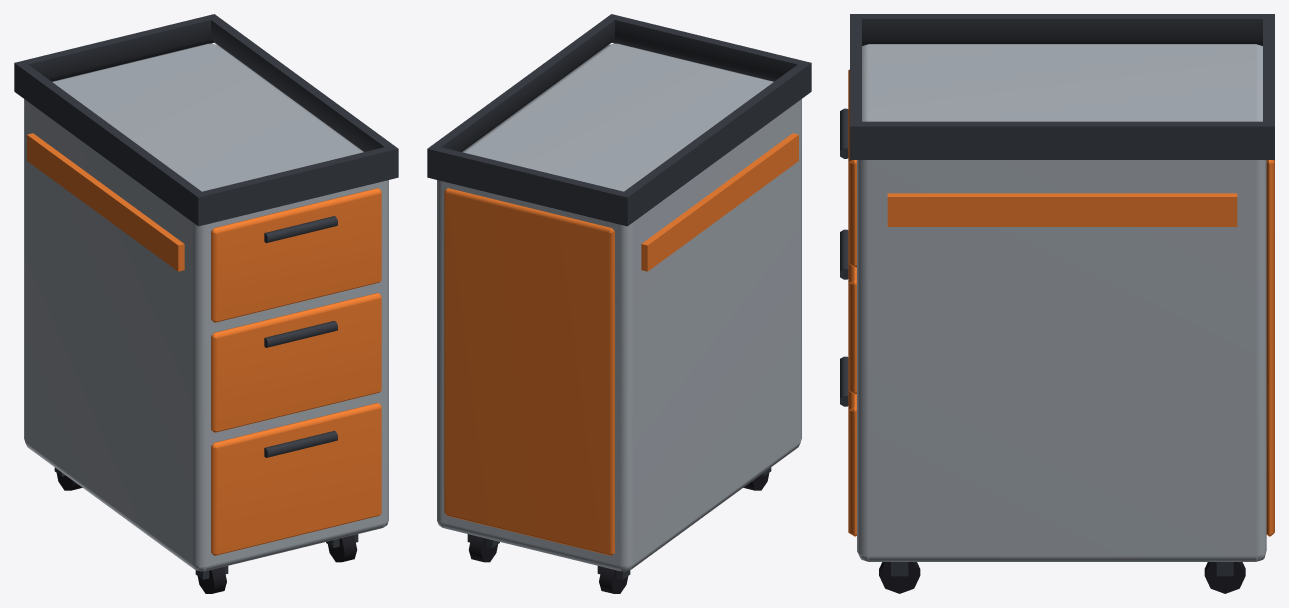
The model's file is Carrito.fbx.
3 renders of one model, left to right at view 1: azimuth 30°, elevation 25°; view 2: azimuth 150°, elevation 25°; view 3: azimuth 270°, elevation 25°, orthographic. The views are drawn at different scales.
Parts seen in each view (by area): view 1: Carrito; view 2: Carrito; view 3: Carrito.
Boxes of the visible parts, <box> form: Carrito: <box>14,14,398,593</box>; Carrito: <box>427,14,811,593</box>; Carrito: <box>840,14,1274,593</box>.
Bounding box in the file's own units: 1.66 × 3.2 × 2.61.
1 material, 1 textured.
